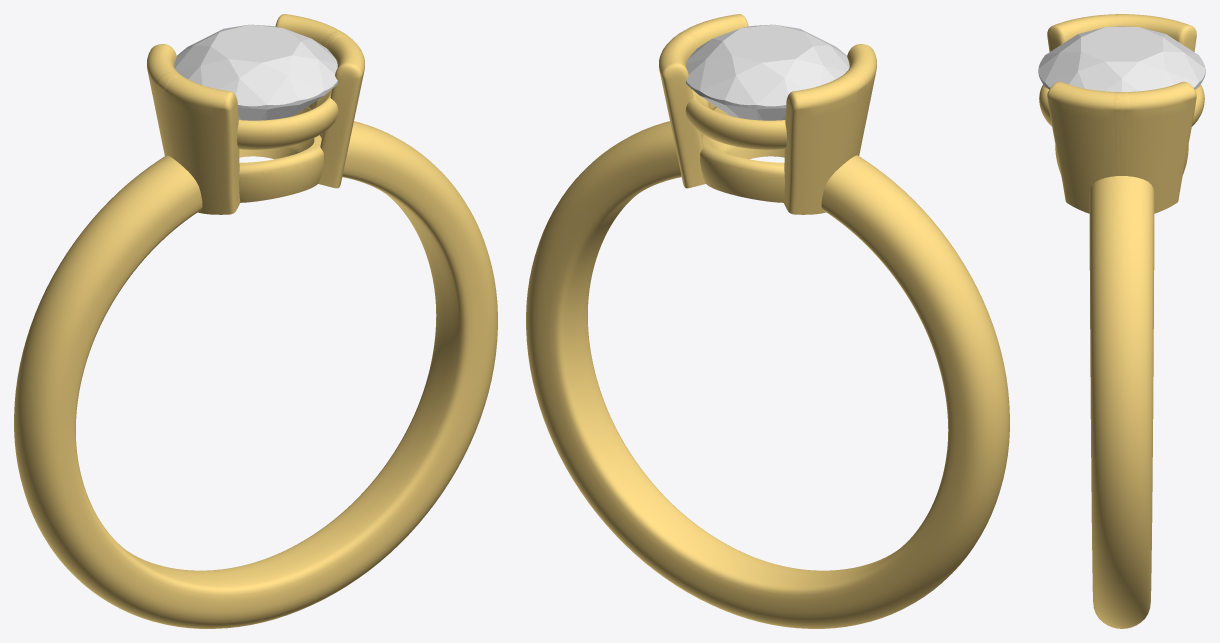
File: diamond-round-yellowgold-halfmoonbezel-straightband-nosidestones.glb
3 renders of one model, left to right at view 1: azimuth 30°, elevation 25°; view 2: azimuth 150°, elevation 25°; view 3: azimuth 270°, elevation 25°, orthographic. The views are drawn at different scales.
Parts seen in each view (by area): view 1: metal, stone; view 2: metal, stone; view 3: metal, stone.
Boxes of the visible parts, x1,y1,x2,y2 form: metal: (14, 14, 497, 628); stone: (174, 24, 337, 120); metal: (526, 14, 1009, 628); stone: (686, 24, 849, 120); metal: (1039, 14, 1204, 628); stone: (1038, 26, 1205, 92).
Size of the model in its own units: 20.5 by 23.81 by 6.44.
